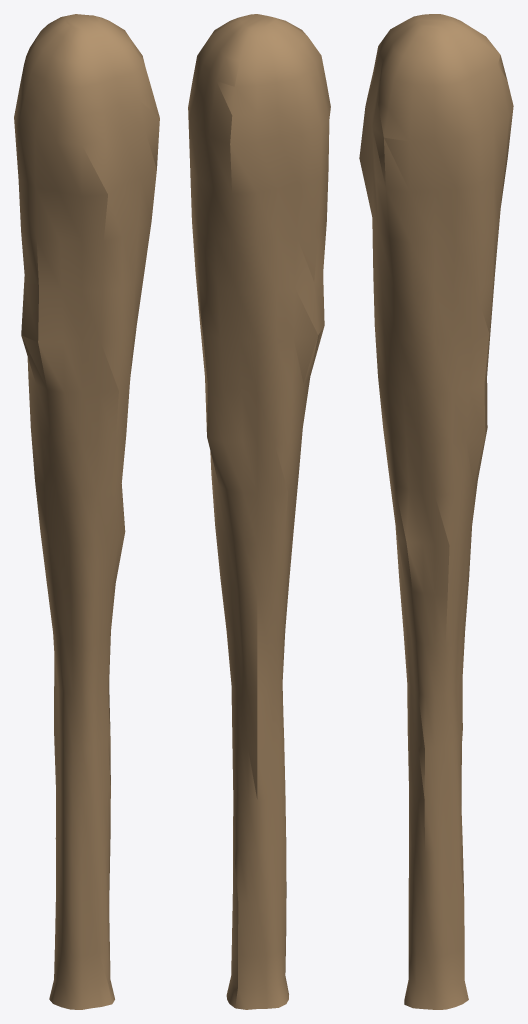
The model's file is club.glb.
3 views of the same model, side by side, from view 1: azimuth 30°, elevation 25°; view 2: azimuth 150°, elevation 25°; view 3: azimuth 270°, elevation 25° (orthographic).
Visible parts, largest first — view 1: OUT; view 2: OUT; view 3: OUT.
Part boxes in pixels (x1,y1,x2,y2): OUT: (14,14,159,1009); OUT: (188,14,330,1009); OUT: (359,14,513,1009).
Bounding box in the file's own units: 0.1004 × 0.75 × 0.1073.
